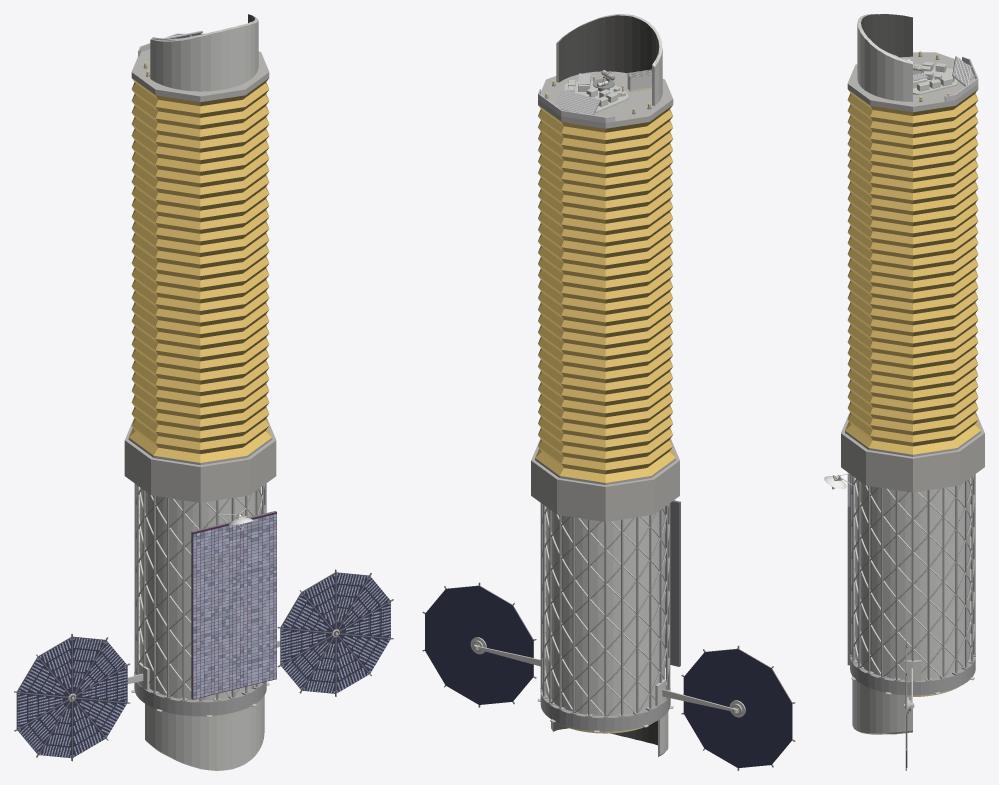
File: International X-ray Observatory.glb
The picture shows the model from 3 angles, left to right: view 1: azimuth 30°, elevation 25°; view 2: azimuth 150°, elevation 25°; view 3: azimuth 270°, elevation 25°; orthographic projection. The views are drawn at different scales.
Visible parts, largest first — view 1: Layer_0; view 2: Layer_0; view 3: Layer_0.
Part boxes in pixels (<box>): Layer_0: <box>14,14,393,770</box>; Layer_0: <box>422,14,795,770</box>; Layer_0: <box>824,14,984,770</box>.
Size of the model in its own units: 28.77 by 53.56 by 11.13.
